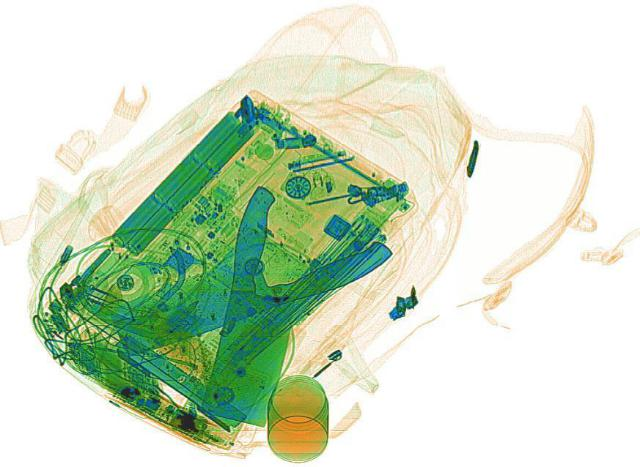Knife: (90, 218, 398, 357), (196, 183, 322, 426)
